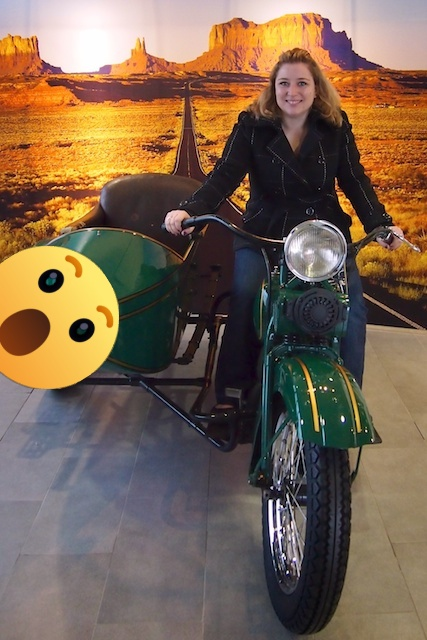wow: (0, 246, 119, 389)
